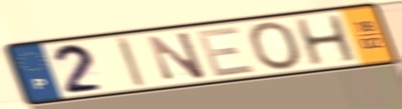2: (52, 41, 110, 98)
E: (194, 24, 259, 79)
H: (292, 12, 360, 67)
I: (114, 35, 149, 90)
N: (144, 29, 209, 82)
O: (246, 20, 306, 72)
